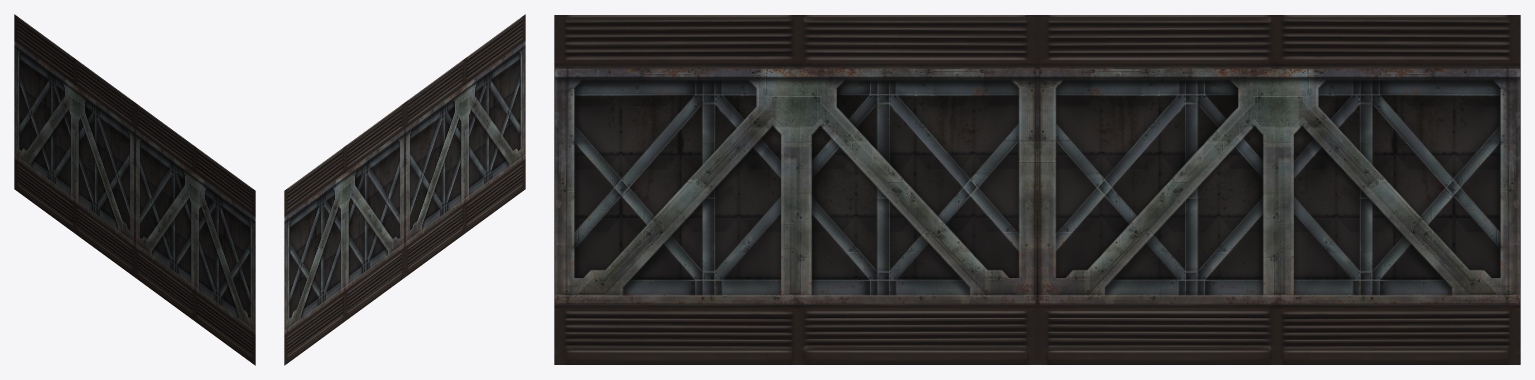
File: Wall_A_Short2mts_07.fbx
The picture shows the model from 3 angles, left to right: view 1: azimuth 30°, elevation 25°; view 2: azimuth 150°, elevation 25°; view 3: azimuth 270°, elevation 25°; orthographic projection. The views are drawn at different scales.
Visible parts, largest first — view 1: Wall_A_Short2mts_07; view 2: Wall_A_Short2mts_07; view 3: Wall_A_Short2mts_07.
Part boxes in pixels (x1,y1,x2,y2): Wall_A_Short2mts_07: [14, 14, 255, 365]; Wall_A_Short2mts_07: [284, 14, 525, 365]; Wall_A_Short2mts_07: [554, 15, 1520, 364].
Size of the model in its own units: 0.000157 by 200 by 500.
1 material, 1 textured.
